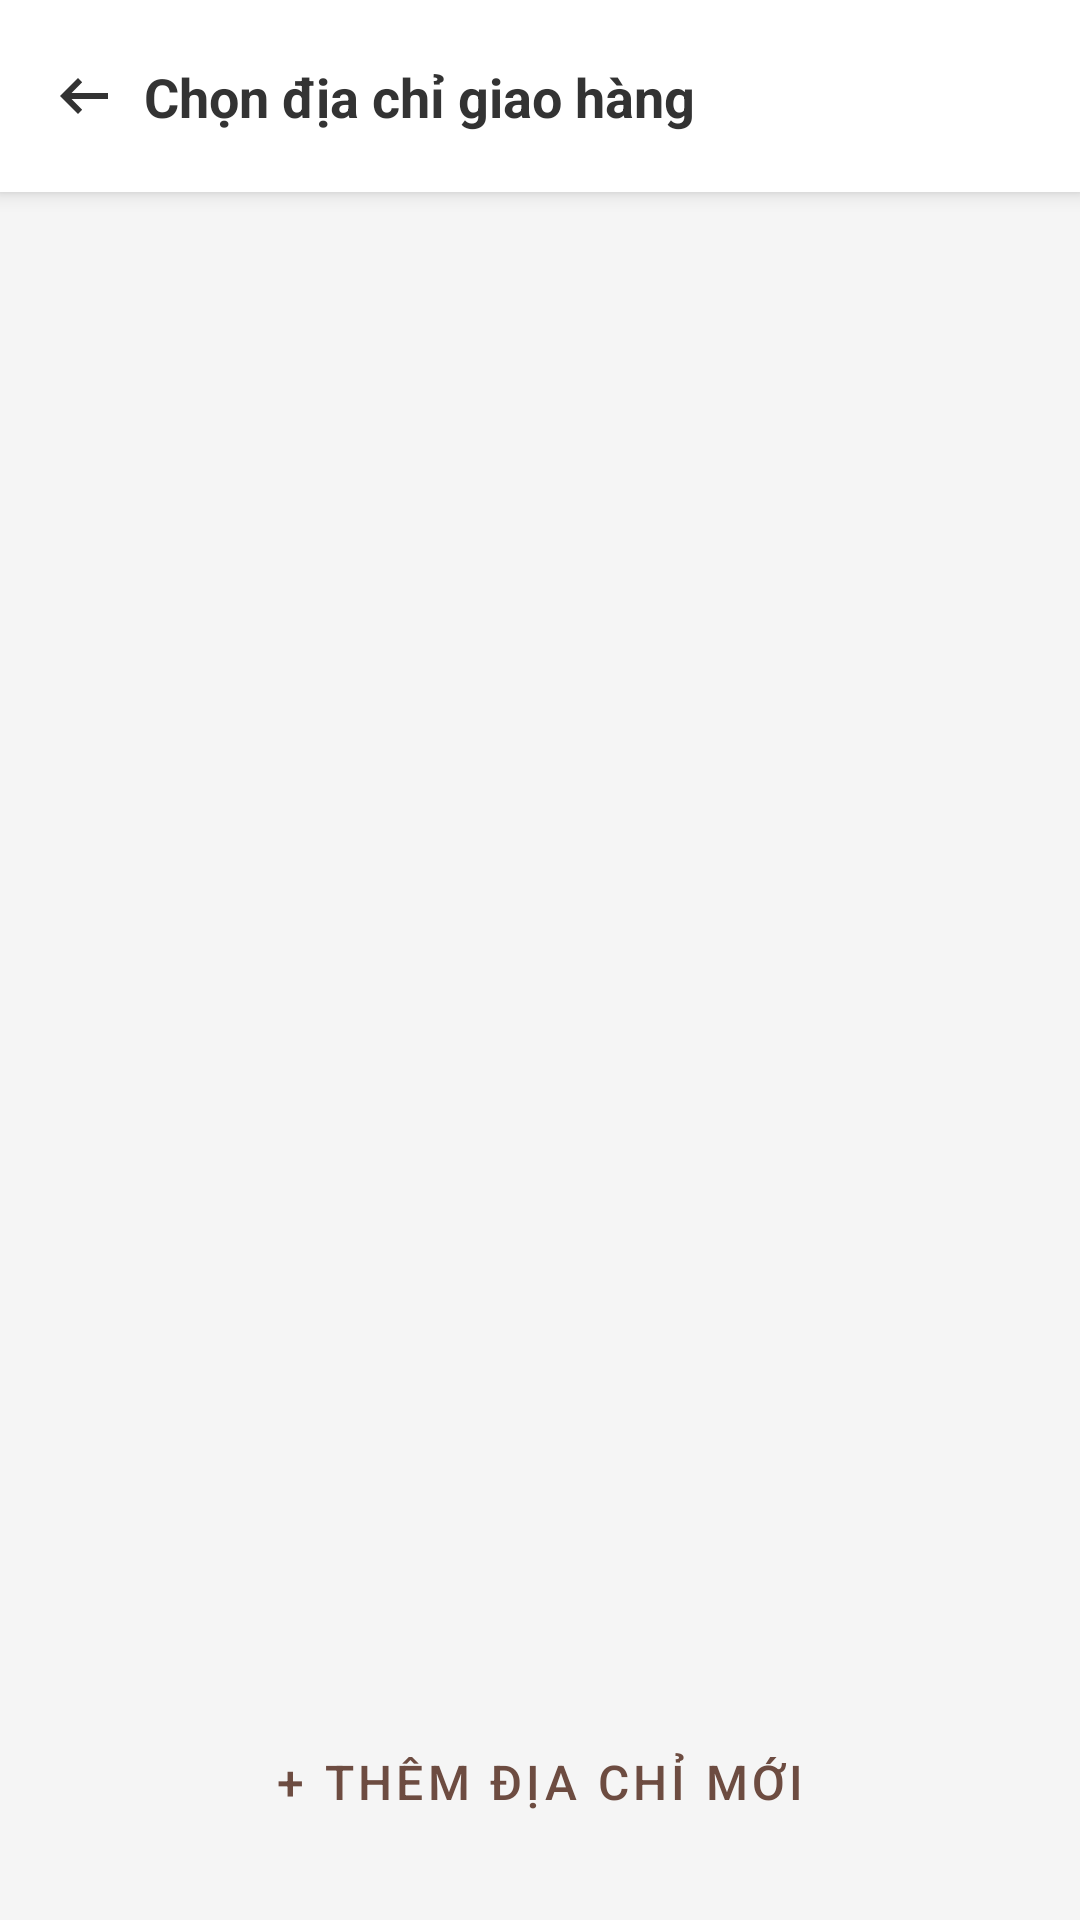

Icon bounding boxes for this 1080w x 1920h phone screenshot, format (x1, y1, x2, y2):
arrow back: (60, 78, 108, 114)
